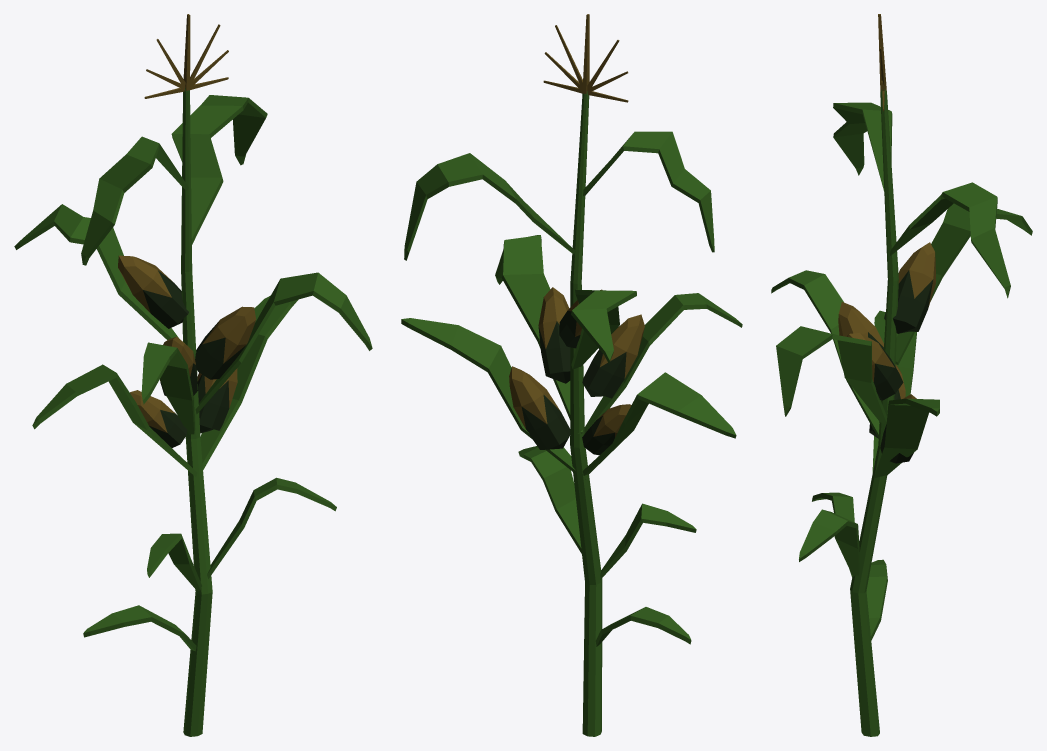
The model's file is Corn_4.obj.
3 views of the same model, side by side, from view 1: azimuth 30°, elevation 25°; view 2: azimuth 150°, elevation 25°; view 3: azimuth 270°, elevation 25° (orthographic).
Visible parts, largest first — view 1: Corn_4_Cube.013; view 2: Corn_4_Cube.013; view 3: Corn_4_Cube.013.
Part boxes in pixels (box(x1,y1,x2,y2)): Corn_4_Cube.013: box(14, 14, 372, 736); Corn_4_Cube.013: box(401, 14, 742, 736); Corn_4_Cube.013: box(771, 14, 1032, 736).
Bounding box in the file's own units: 0.8873 × 1.97 × 0.649.
